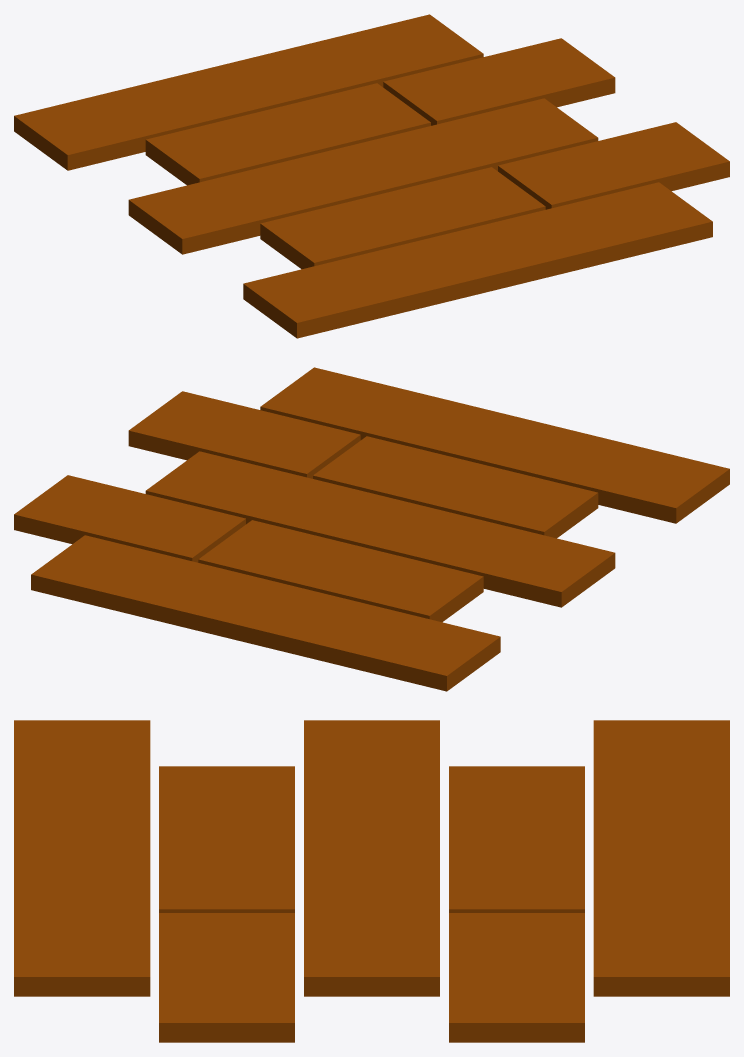
The model's file is RPG_Tiles_Square_Wooden_Boards_05.FBX.
3 renders of one model, top to bottom at view 1: azimuth 30°, elevation 25°; view 2: azimuth 150°, elevation 25°; view 3: azimuth 270°, elevation 25°, orthographic. The views are drawn at different scales.
Visible parts, largest first — view 1: RPG_Tiles_Square_Wooden_Boards_05; view 2: RPG_Tiles_Square_Wooden_Boards_05; view 3: RPG_Tiles_Square_Wooden_Boards_05.
Boxes of the visible parts, x1,y1,x2,y2 form: RPG_Tiles_Square_Wooden_Boards_05: (14, 14, 729, 338); RPG_Tiles_Square_Wooden_Boards_05: (14, 367, 729, 691); RPG_Tiles_Square_Wooden_Boards_05: (14, 720, 729, 1042).
Bounding box in the file's own units: 2964 × 90 × 2964.
